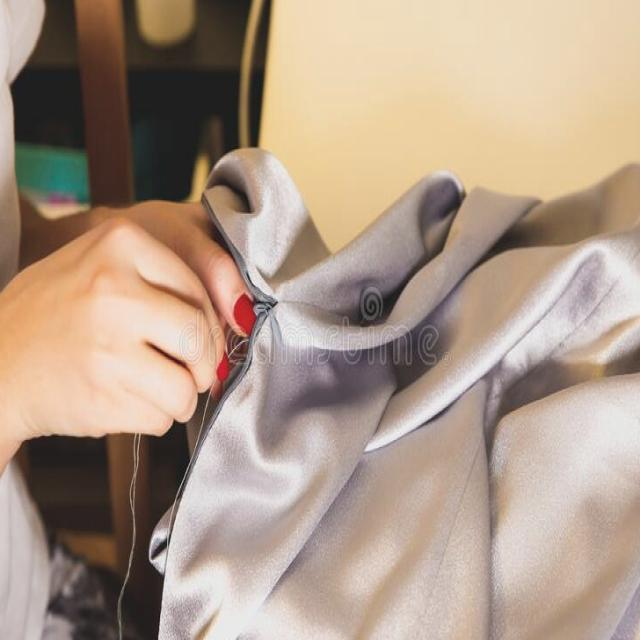clothes: (253, 183, 640, 640)
